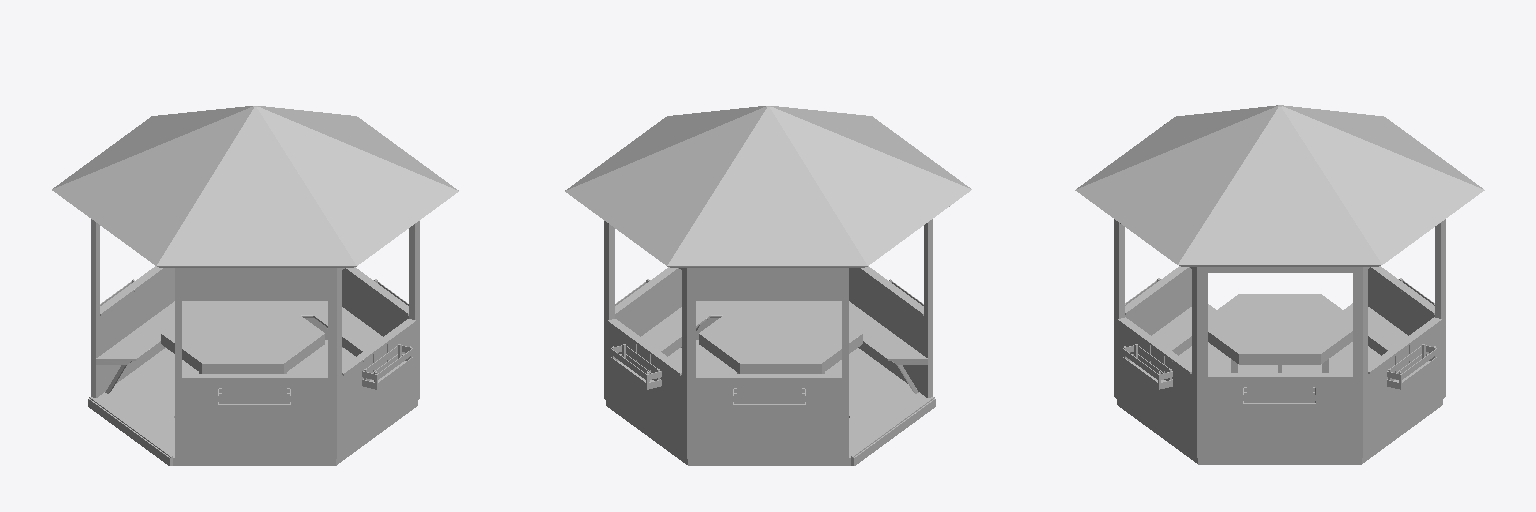
The model's file is Kiosko.obj.
The picture shows the model from 3 angles: view 1: azimuth 30°, elevation 25°; view 2: azimuth 150°, elevation 25°; view 3: azimuth 270°, elevation 25°; orthographic projection.
Visible parts, largest first — view 1: Arbour_floor_Arbour_walls, Arbour_floor_Arbour_table, Arbour_floor_Arbour_floor, Arbour_floor_Arbour_seats, Arbour_floor_Arbour_boxes; view 2: Arbour_floor_Arbour_walls, Arbour_floor_Arbour_table, Arbour_floor_Arbour_floor, Arbour_floor_Arbour_seats, Arbour_floor_Arbour_boxes; view 3: Arbour_floor_Arbour_walls, Arbour_floor_Arbour_table, Arbour_floor_Arbour_boxes, Arbour_floor_Arbour_floor, Arbour_floor_Arbour_seats.
Boxes of the visible parts, <box> form: Arbour_floor_Arbour_walls: <box>52,106,458,458</box>; Arbour_floor_Arbour_table: <box>161,303,324,373</box>; Arbour_floor_Arbour_floor: <box>88,340,417,465</box>; Arbour_floor_Arbour_seats: <box>96,301,382,417</box>; Arbour_floor_Arbour_boxes: <box>100,279,413,410</box>; Arbour_floor_Arbour_walls: <box>565,106,971,458</box>; Arbour_floor_Arbour_table: <box>699,303,862,373</box>; Arbour_floor_Arbour_floor: <box>606,340,935,465</box>; Arbour_floor_Arbour_seats: <box>641,301,927,417</box>; Arbour_floor_Arbour_boxes: <box>610,279,923,410</box>; Arbour_floor_Arbour_walls: <box>1075,105,1484,457</box>; Arbour_floor_Arbour_table: <box>1208,294,1352,372</box>; Arbour_floor_Arbour_boxes: <box>1122,278,1437,409</box>; Arbour_floor_Arbour_floor: <box>1117,342,1442,464</box>; Arbour_floor_Arbour_seats: <box>1152,303,1407,350</box>.
Bounding box in the file's own units: 36.02 × 33.84 × 42.01.